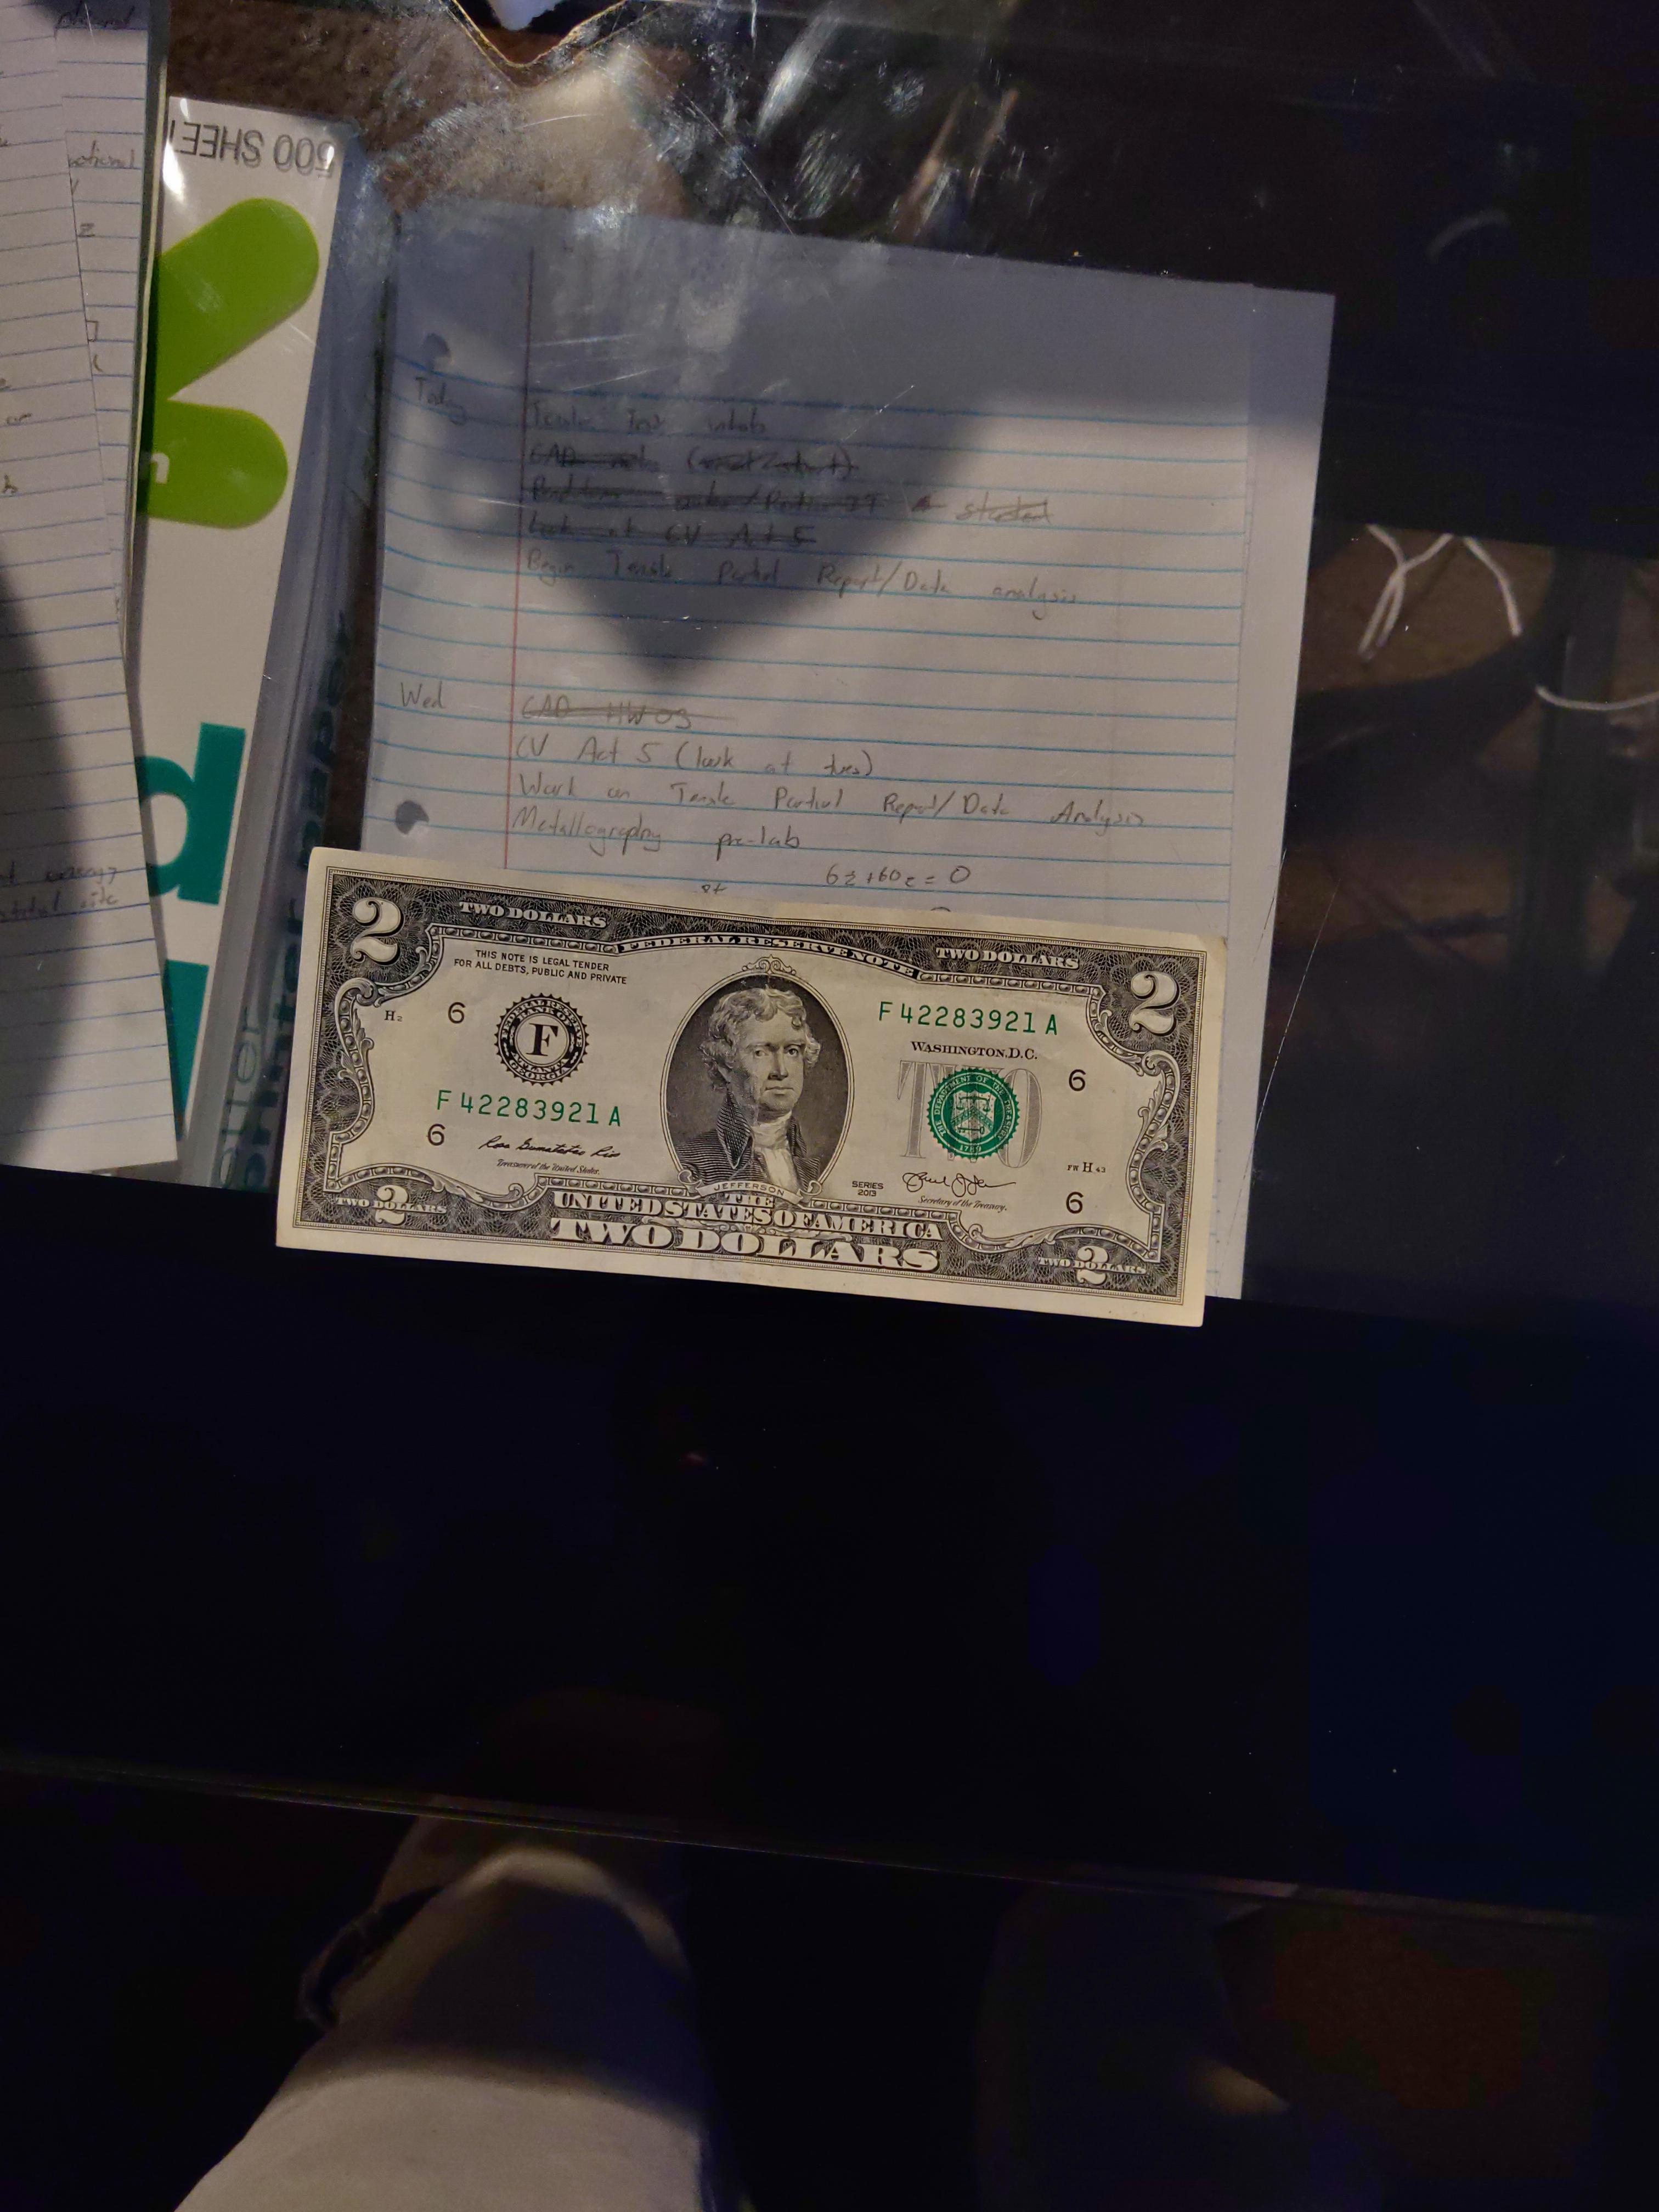TwoBill: (275, 845, 1232, 1332)
